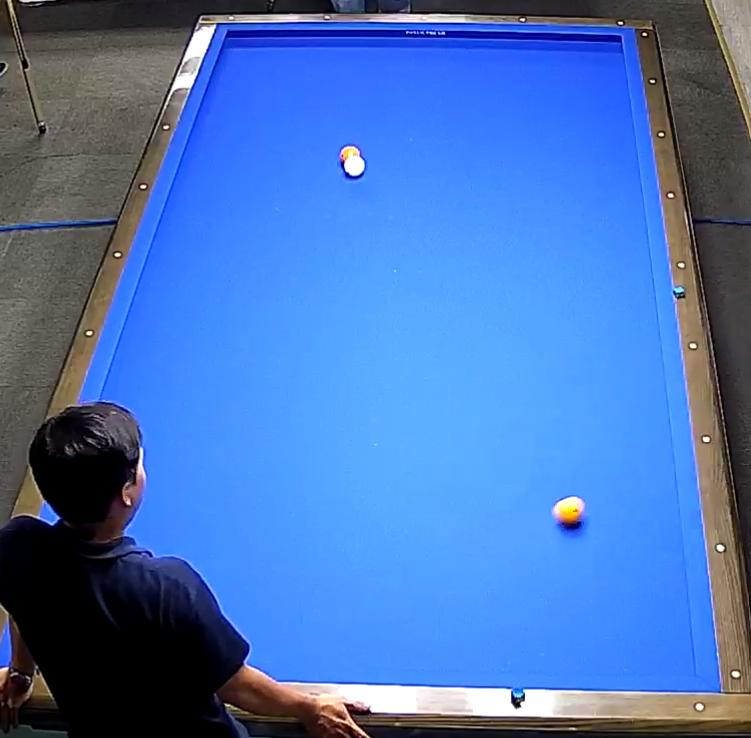orange ball: (333, 141, 364, 169)
white ball: (341, 152, 368, 184)
yellow ball: (552, 492, 589, 532)
